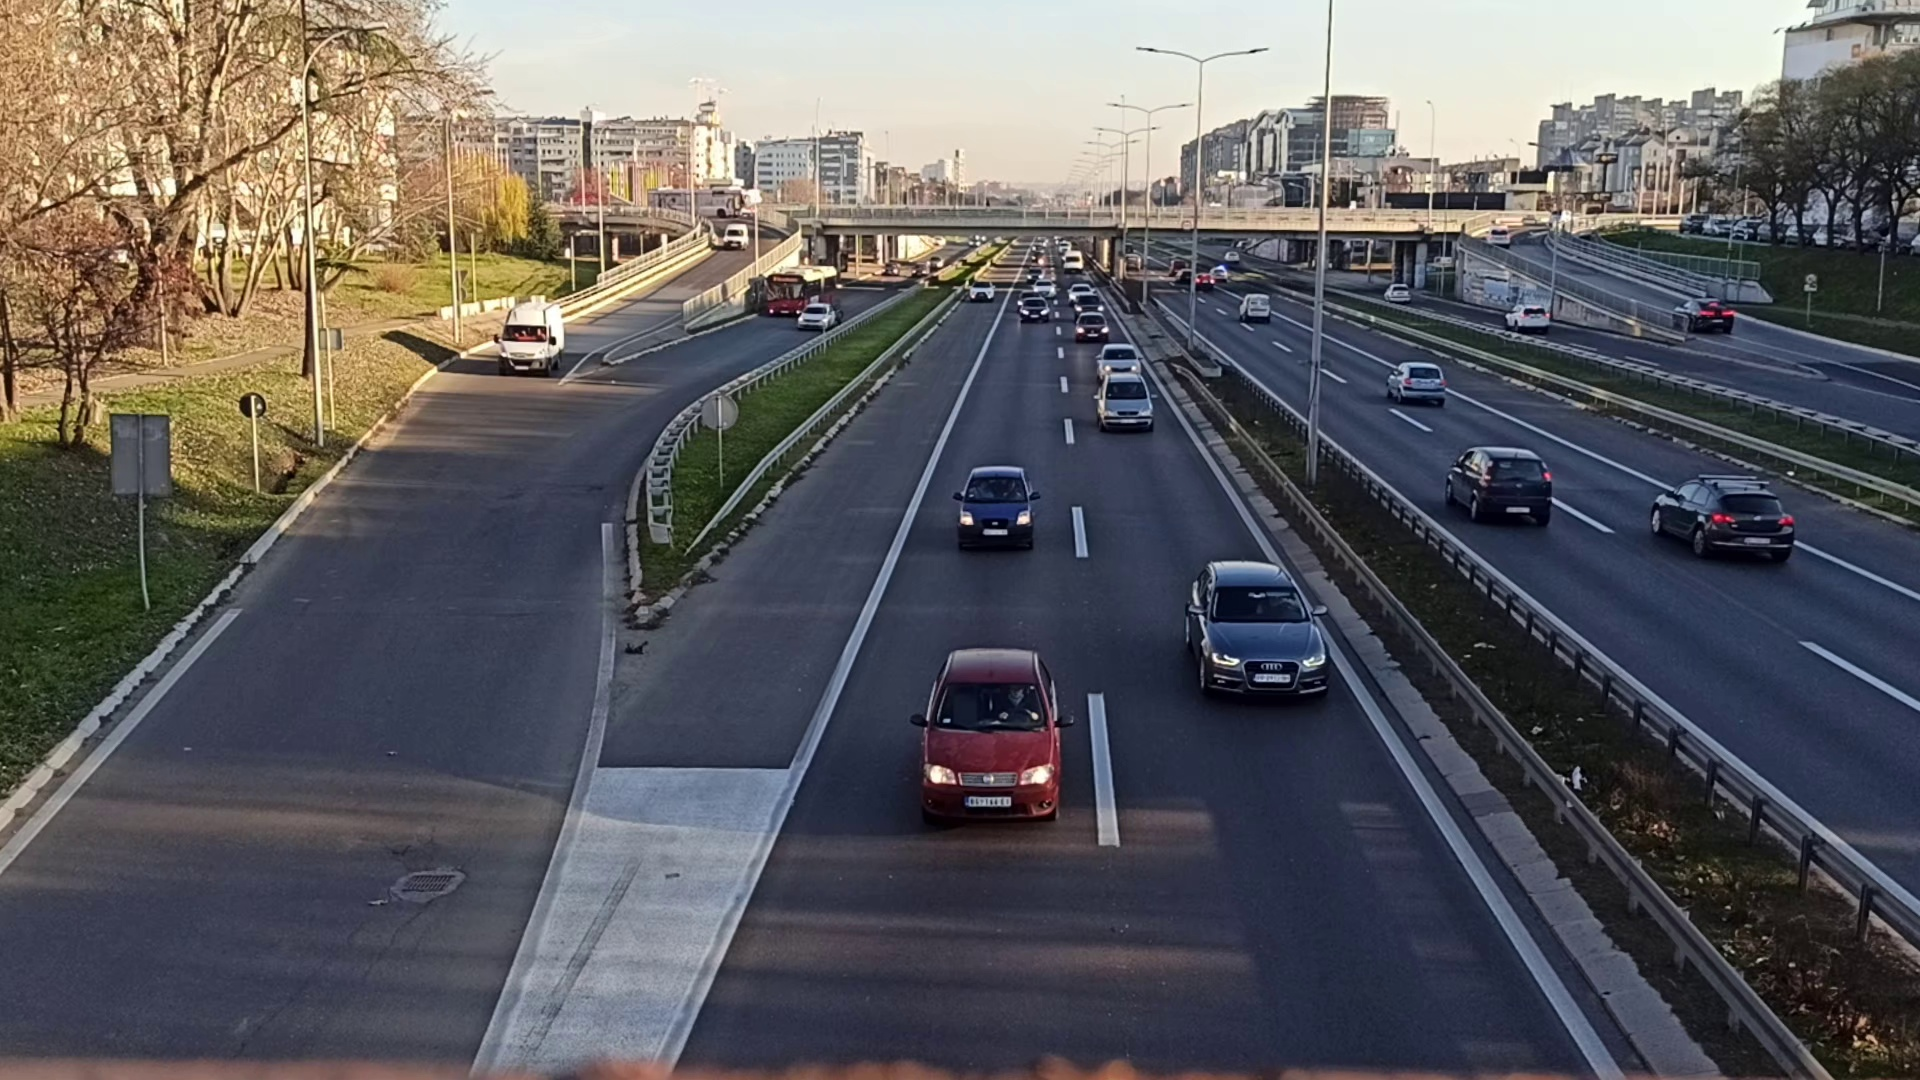bus: (767, 272, 836, 313)
car: (914, 646, 1068, 824), (1189, 560, 1329, 702), (1647, 469, 1800, 574), (1440, 442, 1555, 531), (956, 464, 1036, 553), (1096, 372, 1153, 436), (1386, 360, 1445, 410), (1073, 313, 1110, 340), (799, 305, 832, 328), (1021, 299, 1048, 323)
van: (500, 301, 564, 376)
